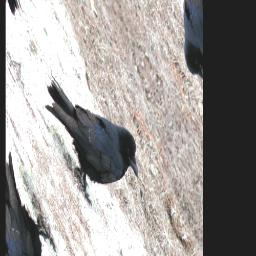Crow: (37, 32, 147, 228)
